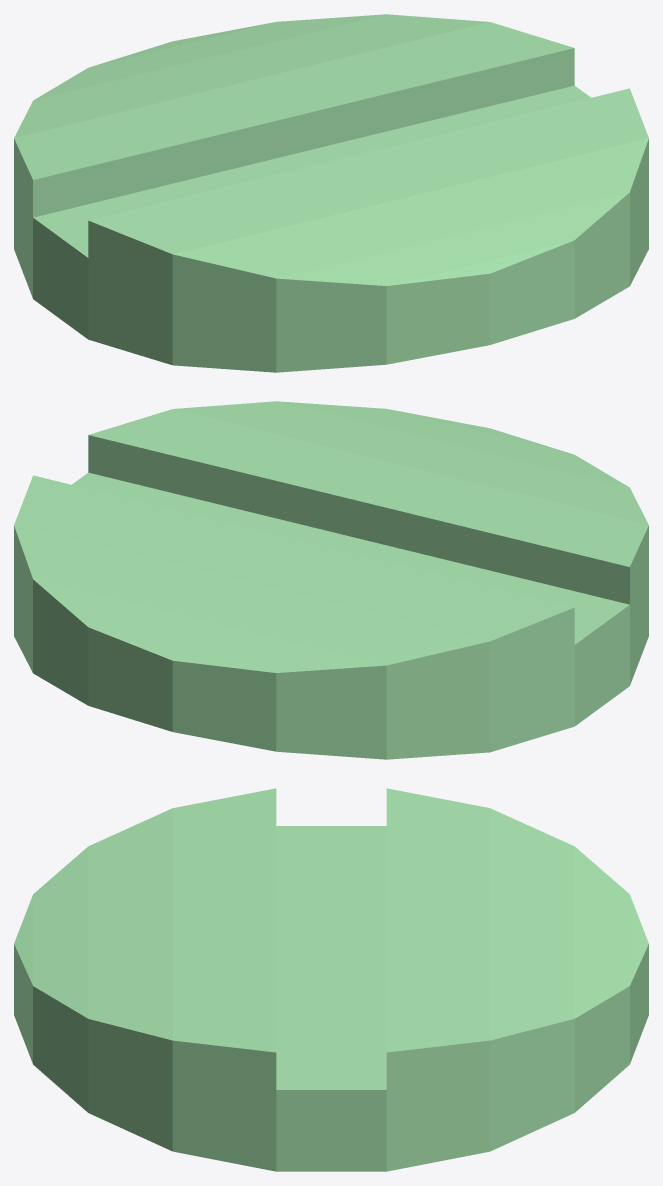
Rendered from pill.fbx.
3 views of the same model, one above another, from view 1: azimuth 30°, elevation 25°; view 2: azimuth 150°, elevation 25°; view 3: azimuth 270°, elevation 25° (orthographic).
Visible parts, largest first — view 1: Comp; view 2: Comp; view 3: Comp.
Part boxes in pixels (box(x1,y1,x2,y2)): Comp: box(14, 14, 648, 372); Comp: box(14, 401, 648, 759); Comp: box(14, 788, 648, 1171).
Size of the model in its own units: 197 by 41.39 by 200.
